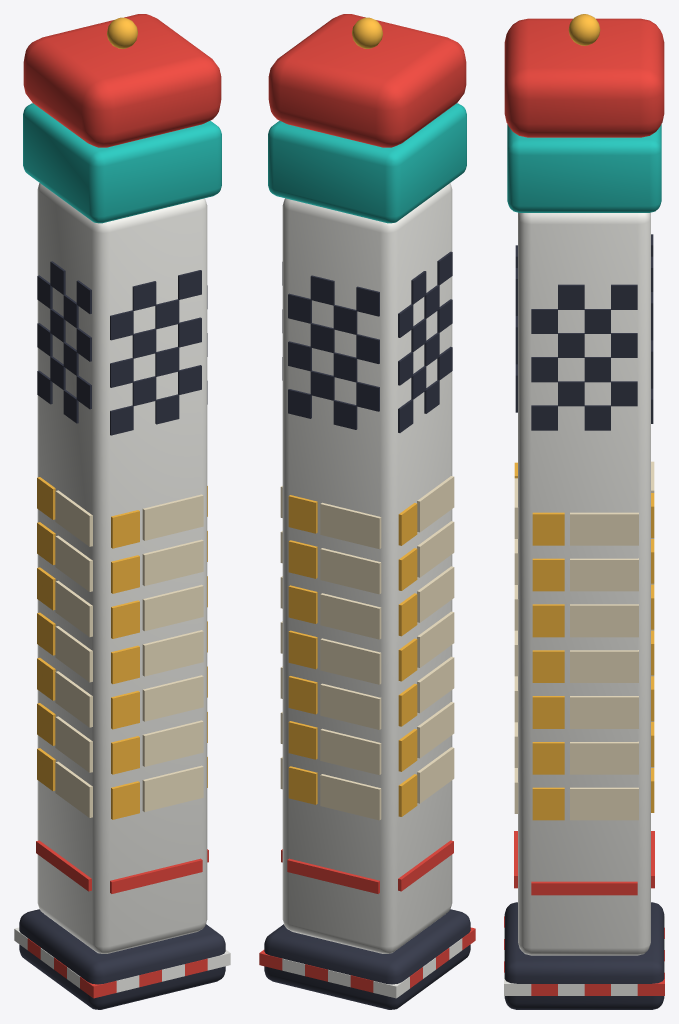
File: TimingTower.fbx
3 renders of one model, left to right at view 1: azimuth 30°, elevation 25°; view 2: azimuth 150°, elevation 25°; view 3: azimuth 270°, elevation 25°, orthographic.
Visible parts, largest first — view 1: TimingTower; view 2: TimingTower; view 3: TimingTower.
Part boxes in pixels (box(x1,y1,x2,y2)): TimingTower: box(14, 14, 230, 1009); TimingTower: box(259, 14, 475, 1009); TimingTower: box(504, 14, 664, 1009).
Size of the model in its own units: 6.04 by 40 by 6.04.
1 material, 1 textured.
